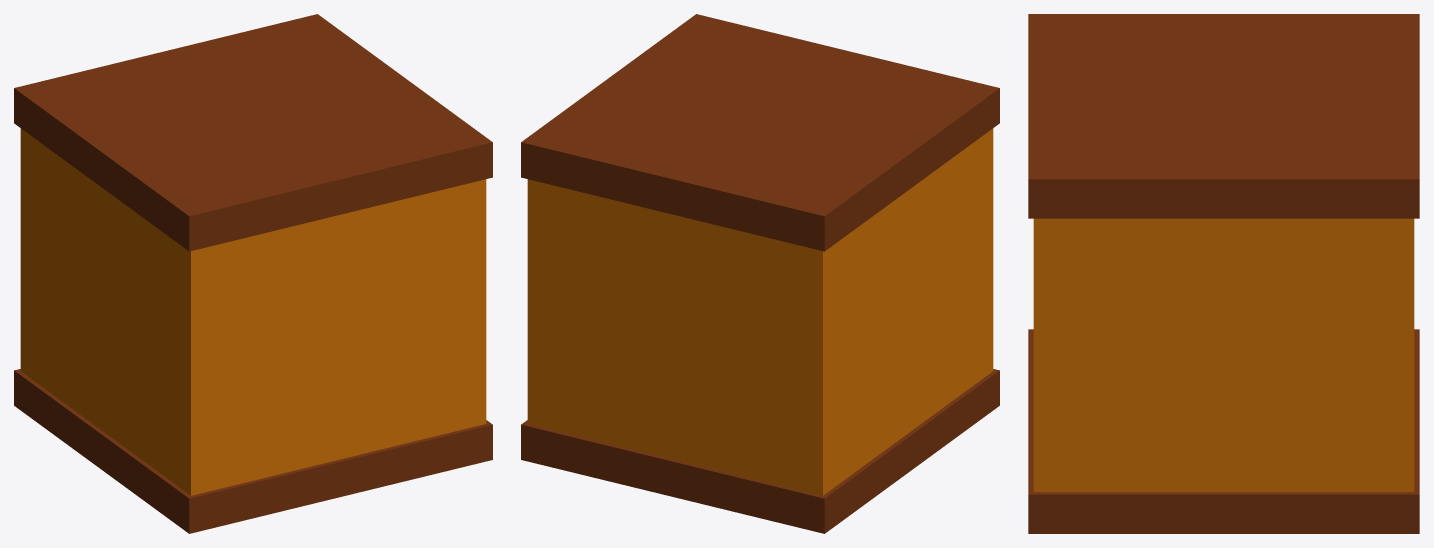
File: model-tripo-1794294890534.glb
The picture shows the model from 3 angles, left to right: view 1: azimuth 30°, elevation 25°; view 2: azimuth 150°, elevation 25°; view 3: azimuth 270°, elevation 25°; orthographic projection. The views are drawn at different scales.
Bounding box in the file's own units: 0.36 × 0.36 × 0.36.
